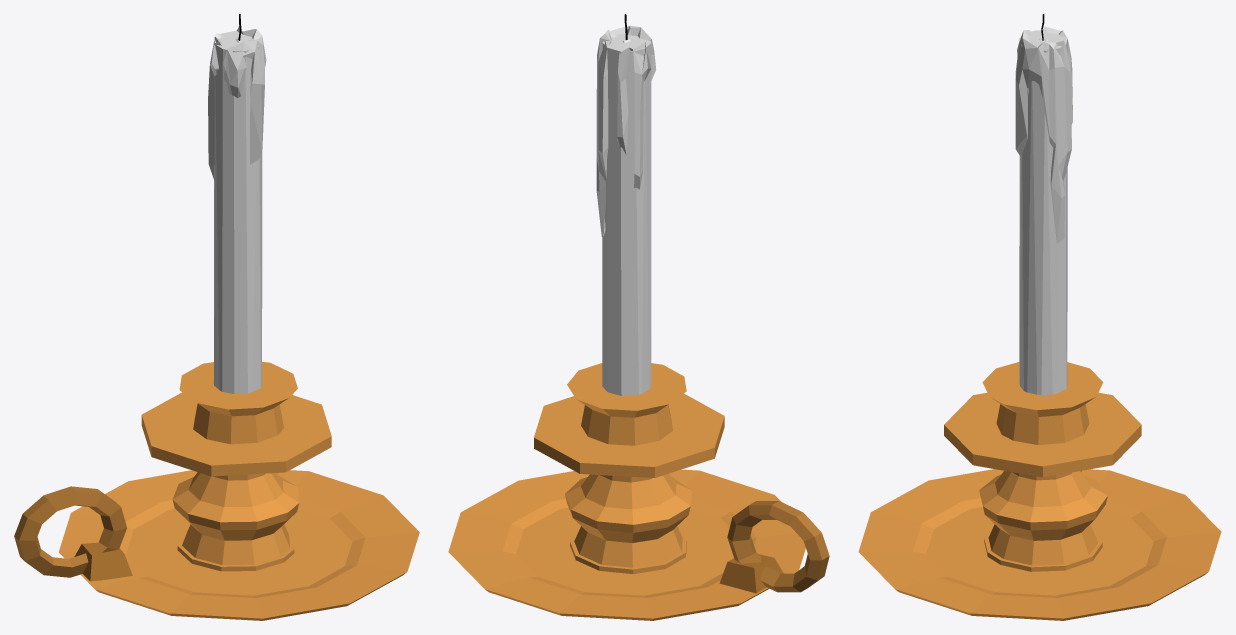
File: Candle_smallhandle.fbx
3 renders of one model, left to right at view 1: azimuth 30°, elevation 25°; view 2: azimuth 150°, elevation 25°; view 3: azimuth 270°, elevation 25°, orthographic.
Parts seen in each view (by area): view 1: Candle_holder, Ljus; view 2: Candle_holder, Ljus; view 3: Candle_holder, Ljus.
Boxes of the visible parts, <box> form: Candle_holder: <box>14,361,419,620</box>; Ljus: <box>208,14,266,393</box>; Candle_holder: <box>448,363,829,620</box>; Ljus: <box>596,14,656,395</box>; Candle_holder: <box>858,362,1221,620</box>; Ljus: <box>1015,14,1072,395</box>.
Bounding box in the file's own units: 17.41 × 24.7 × 14.87.
